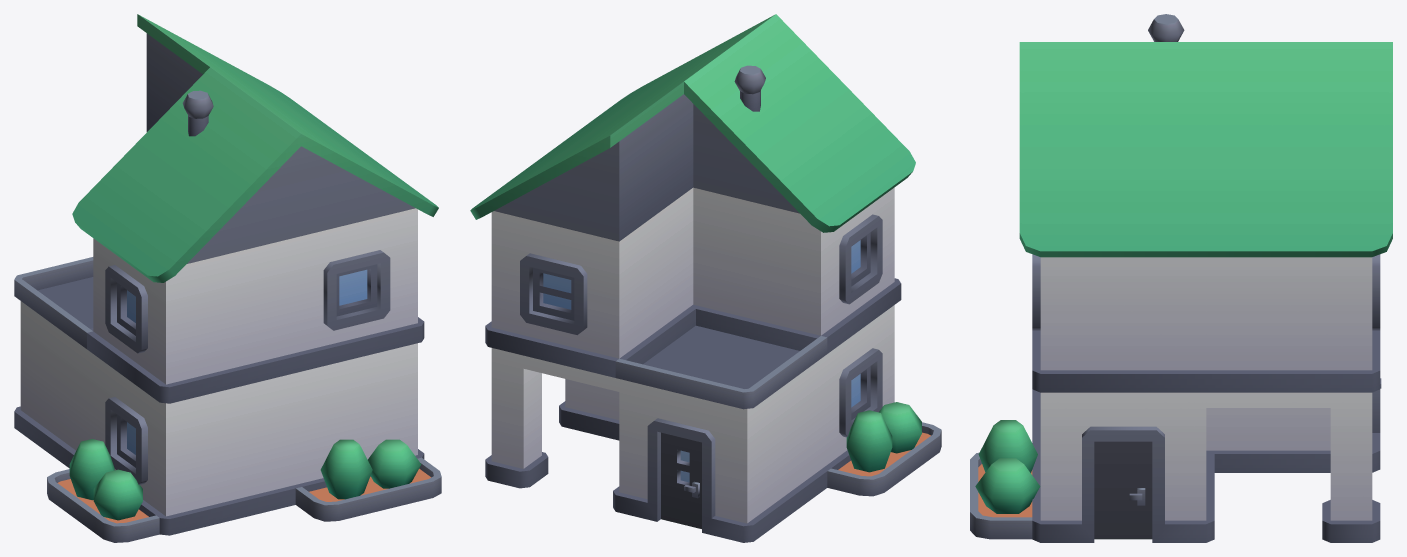
File: suburban.building_type_r.glb
The picture shows the model from 3 angles, left to right: view 1: azimuth 30°, elevation 25°; view 2: azimuth 150°, elevation 25°; view 3: azimuth 270°, elevation 25°; orthographic projection. The views are drawn at different scales.
Parts seen in each view (by area): view 1: building-type-r; view 2: building-type-r; view 3: building-type-r.
Part boxes in pixels (<box>): building-type-r: <box>14,14,441,542</box>; building-type-r: <box>470,14,941,542</box>; building-type-r: <box>970,14,1392,542</box>.
Size of the model in its own units: 5.65 by 6.28 by 5.61.
1 material, 1 textured.
